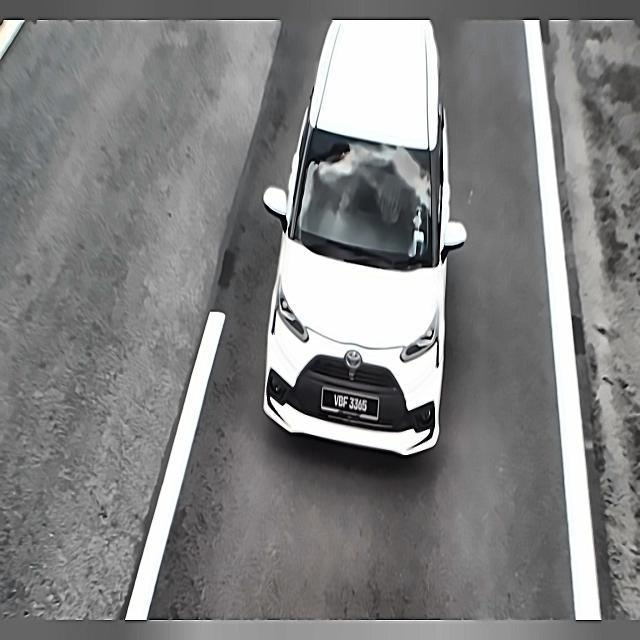car: (317, 379, 383, 425)
